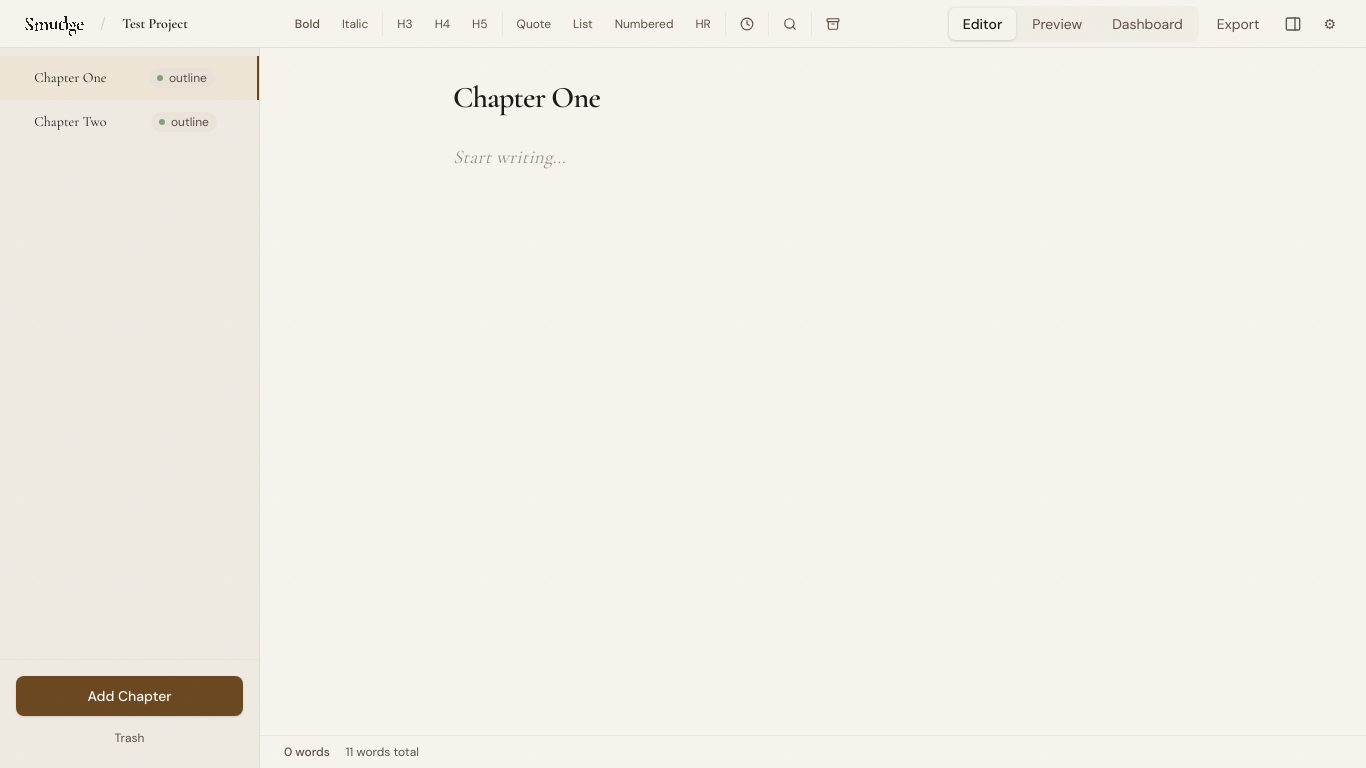
Test: EditorPage trash view › opens trash view and shows trashed chapters
Click the button "Trash" at (130, 738), box x1=16 y1=724 x2=243 y2=752
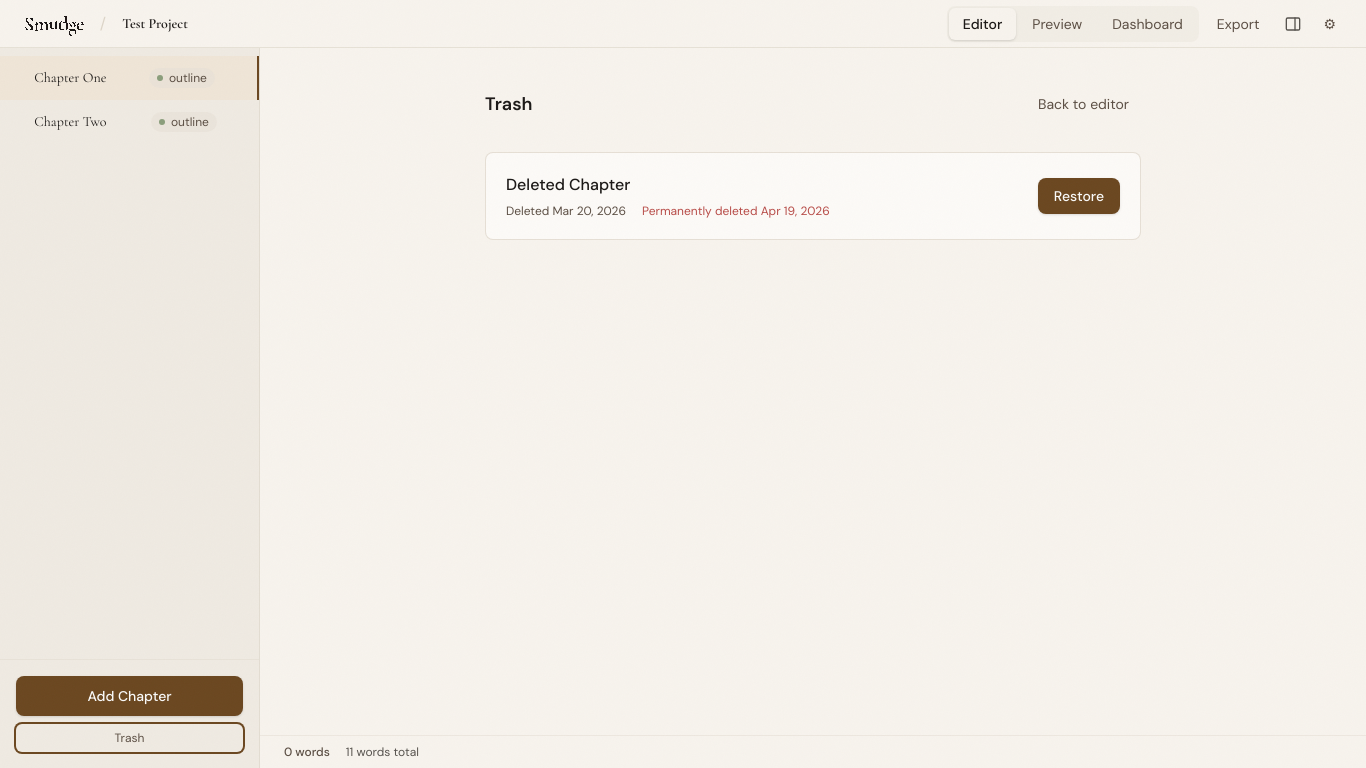
Expected: the text "Deleted Chapter" is shown, x1=506 y1=174 x2=630 y2=195
